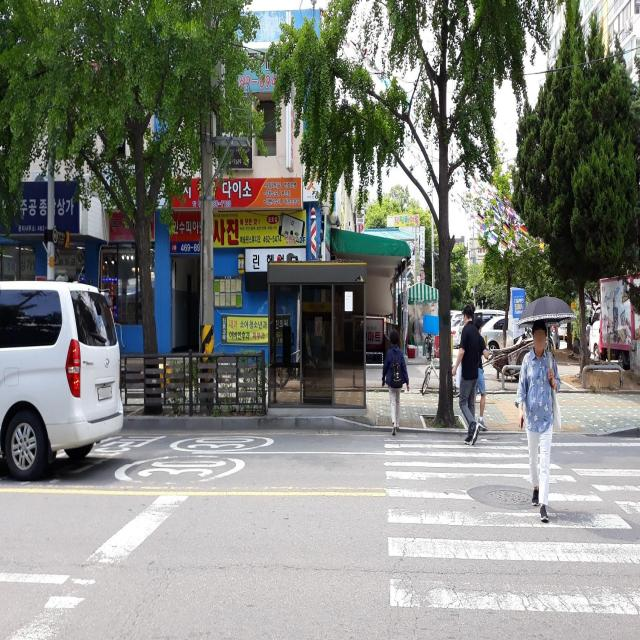횡단보도: (381, 435, 640, 618)
